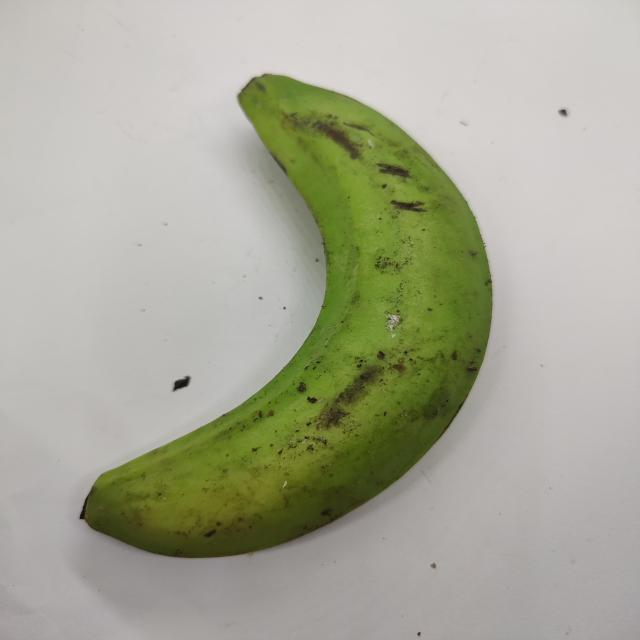Raw: (30, 61, 523, 583)
